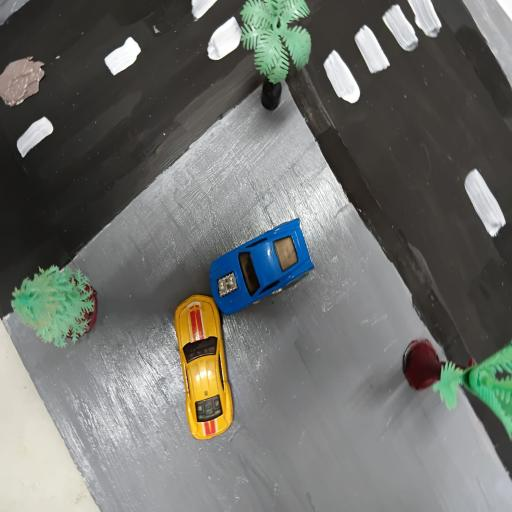car crash: (206, 217, 318, 317), (168, 296, 242, 443)
